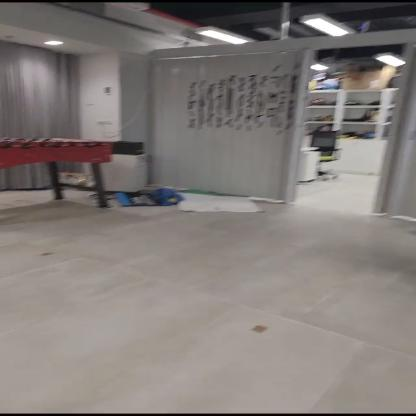open: (294, 48, 403, 204)
